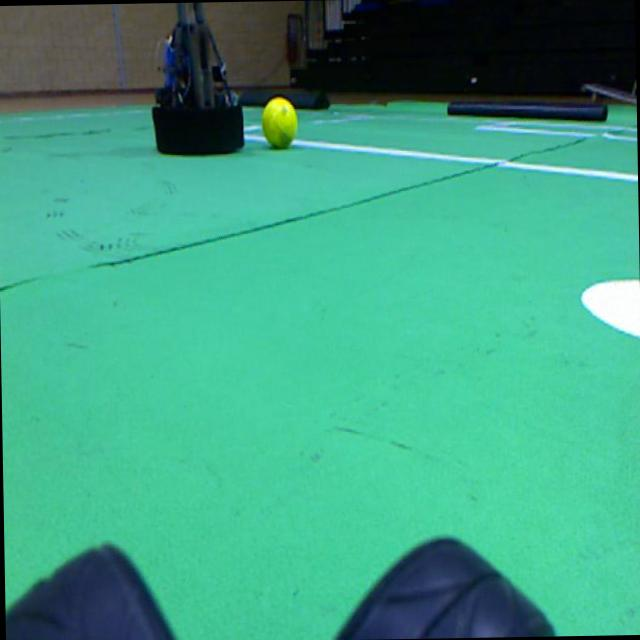ball: (261, 97, 297, 147)
robot: (152, 2, 243, 153)
